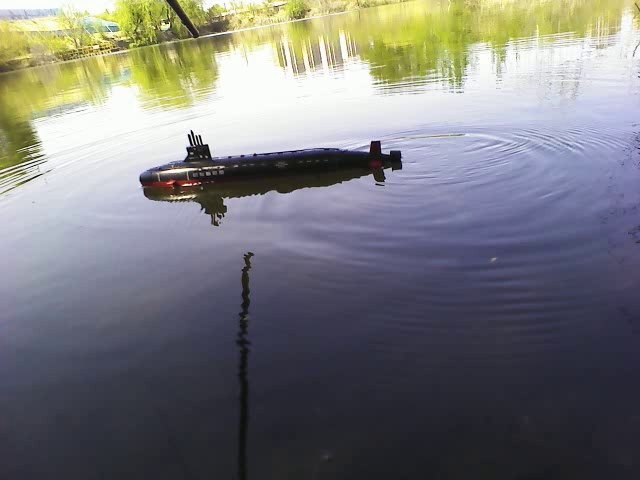submarine: (136, 125, 409, 191)
